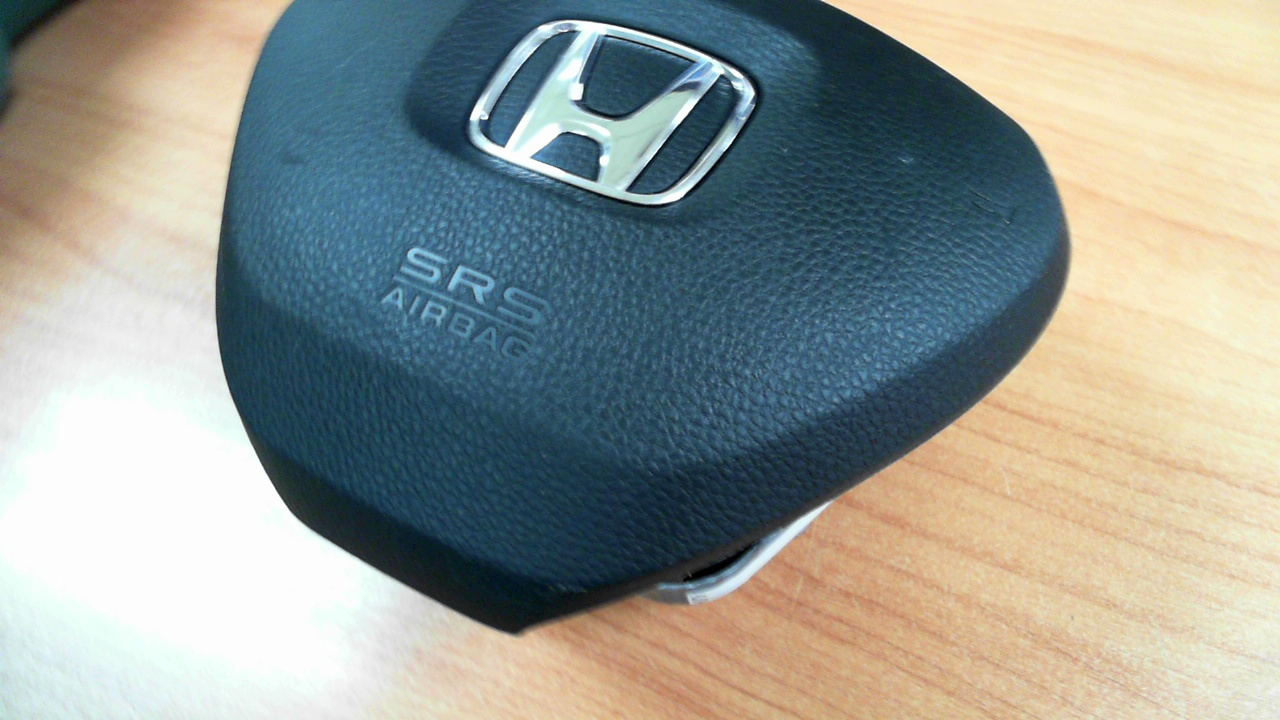Airbag: (213, 0, 1070, 635)
Honda: (469, 18, 756, 206)
